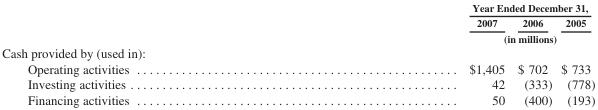table: (1, 1, 594, 106)
table column: (1, 1, 298, 106), (298, 1, 510, 106), (510, 1, 555, 106), (555, 1, 594, 106)
table column header: (1, 1, 594, 45)
table projected row header: (1, 45, 594, 60)
table row: (1, 60, 594, 76), (1, 15, 594, 30), (1, 30, 594, 45), (1, 45, 594, 60), (1, 76, 594, 91), (1, 91, 594, 106), (1, 1, 594, 15)
table spanning cell: (298, 30, 594, 45), (298, 1, 594, 15)
